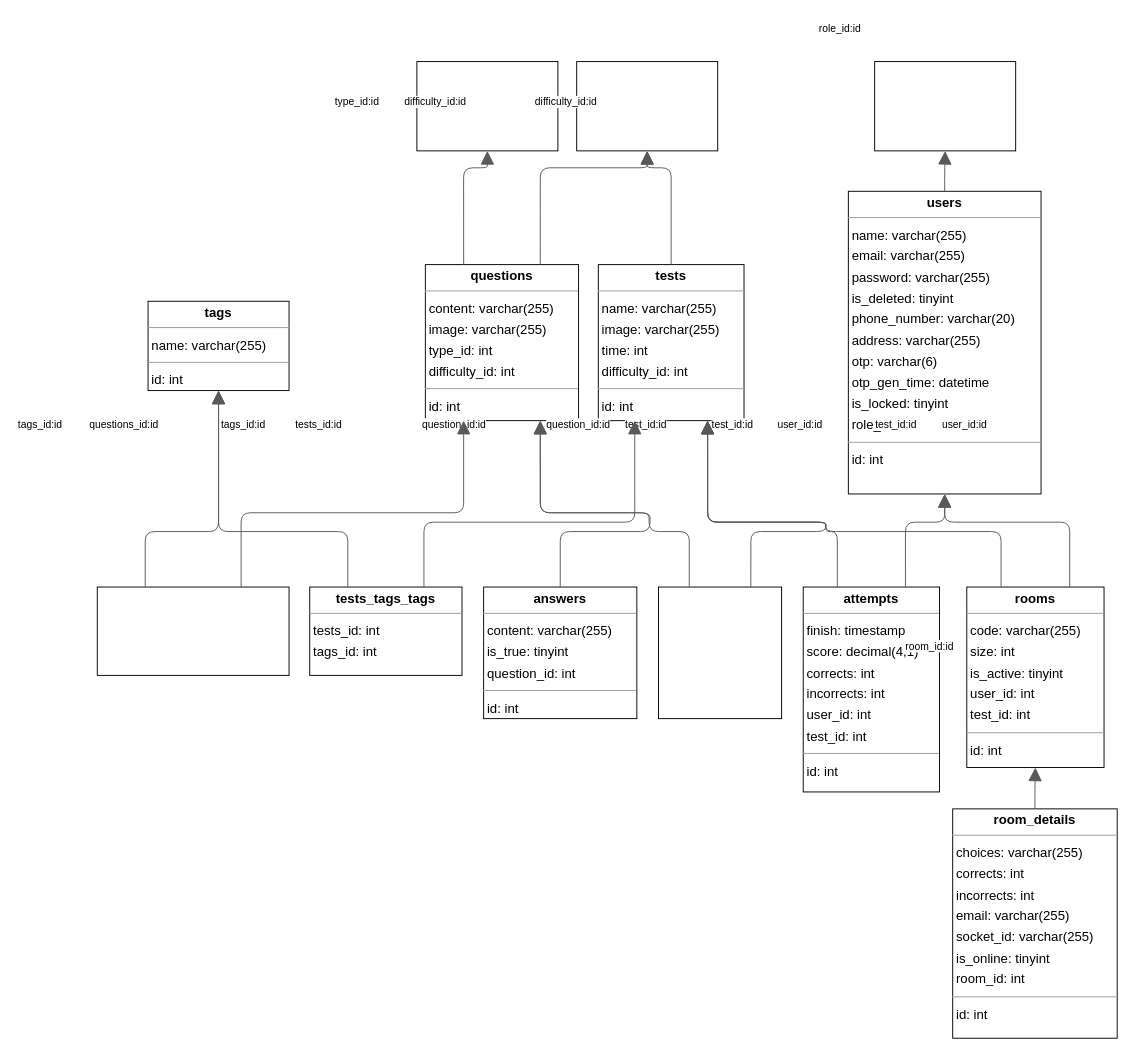
Image size: 1134x1055. Some labels were removed from this diagram. Here are the shapes that lost their labels. From the top down, the centre of each, then its label:
At [487,106]: "types name: varchar(255) id: int".
At [647,106]: "difficulties name: varchar(255) id: int".
At [945,106]: "roles name: varchar(255) id: int".
At [192,630]: "questions_tags_tags questions_id: int tags_id: int".
At [720,652]: "test_details no: int question_id: int test_id: int id: int".
